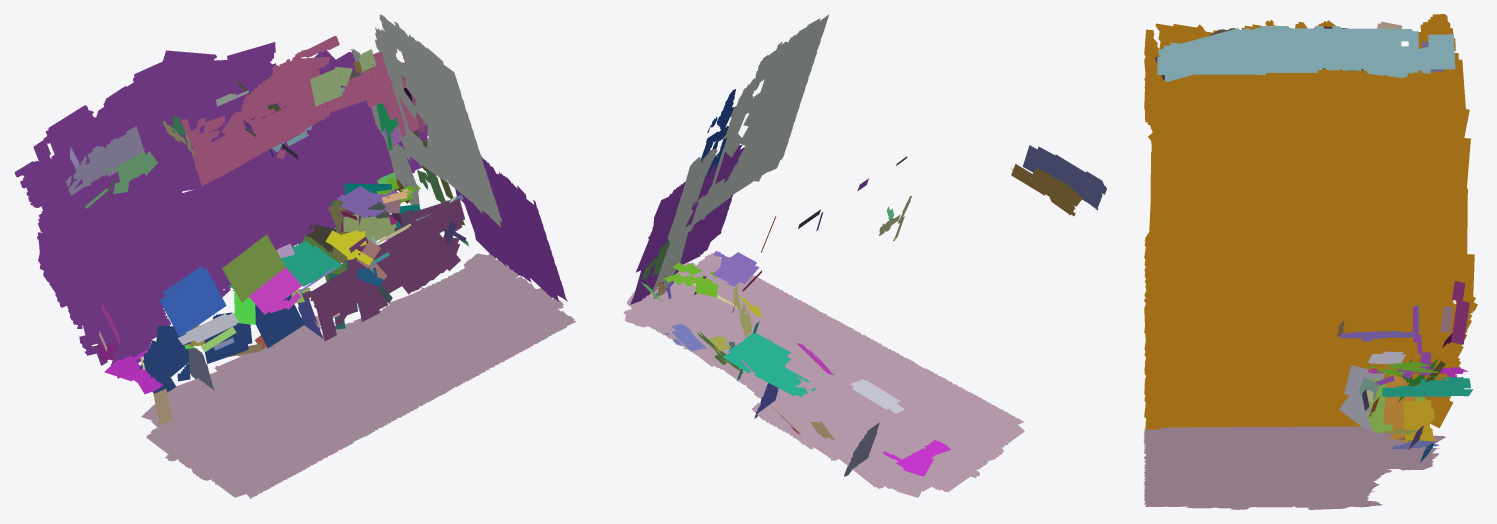
File: 9b74afd2d2_simple.glb
3 views of the same model, side by side, from view 1: azimuth 30°, elevation 25°; view 2: azimuth 150°, elevation 25°; view 3: azimuth 270°, elevation 25° (orthographic). The views are drawn at different scales.
Size of the model in its own units: 4.34 by 3.76 by 2.29.
